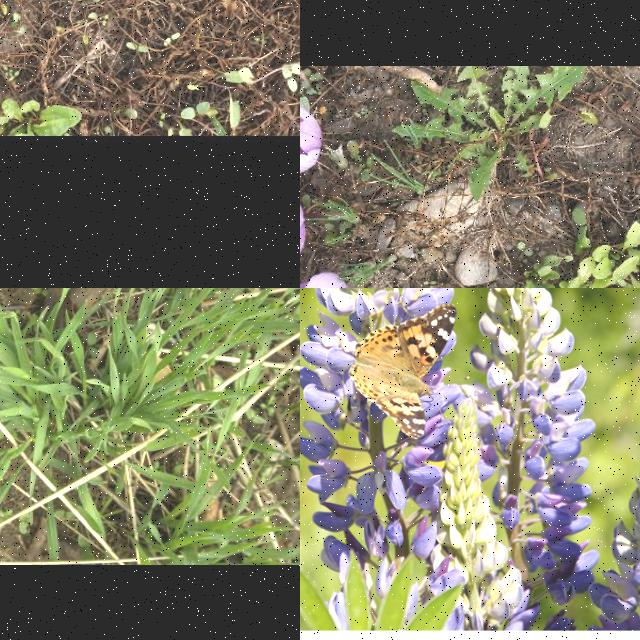flower: (300, 96, 323, 175)
